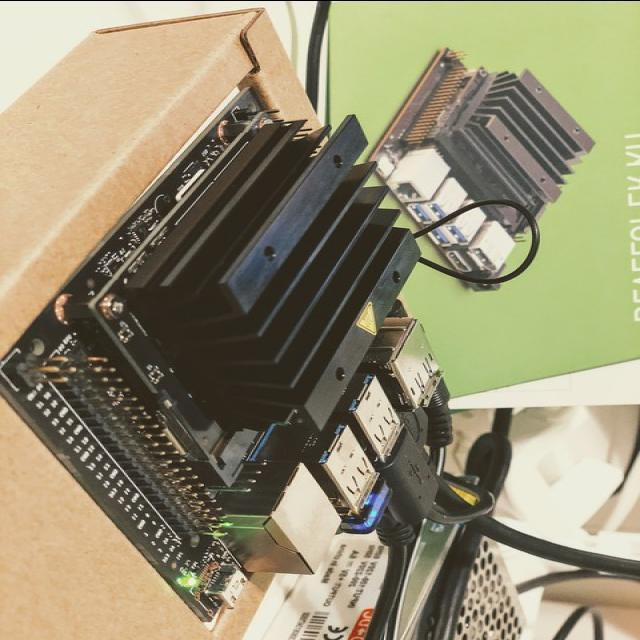Jetson Nano: (3, 87, 443, 623)
